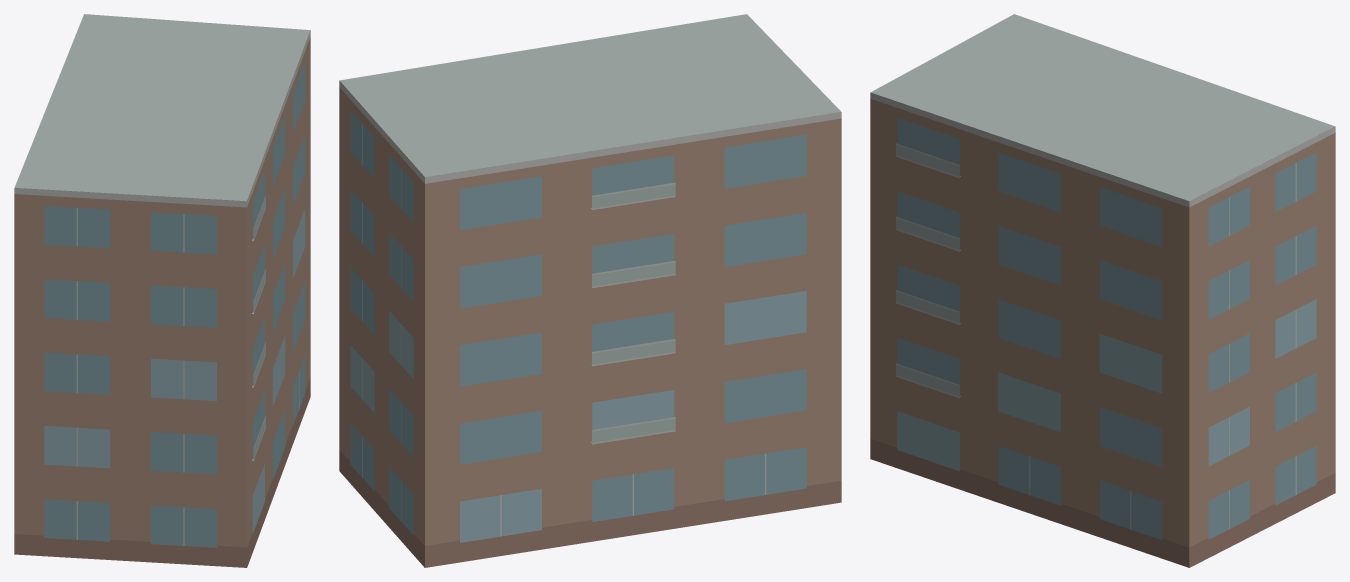
File: survey-upis-32884756.glb
The picture shows the model from 3 angles, left to right: view 1: azimuth 30°, elevation 25°; view 2: azimuth 150°, elevation 25°; view 3: azimuth 270°, elevation 25°; orthographic projection. The views are drawn at different scales.
Visible parts, largest first — view 1: survey-upis-32884756.tmp; view 2: survey-upis-32884756.tmp; view 3: survey-upis-32884756.tmp.
Boxes of the visible parts, box(x1,y1,x2,y2) form: survey-upis-32884756.tmp: box(14, 14, 310, 567); survey-upis-32884756.tmp: box(339, 14, 841, 567); survey-upis-32884756.tmp: box(870, 14, 1335, 567).
Size of the model in its own units: 15.67 by 14.3 by 16.45.
